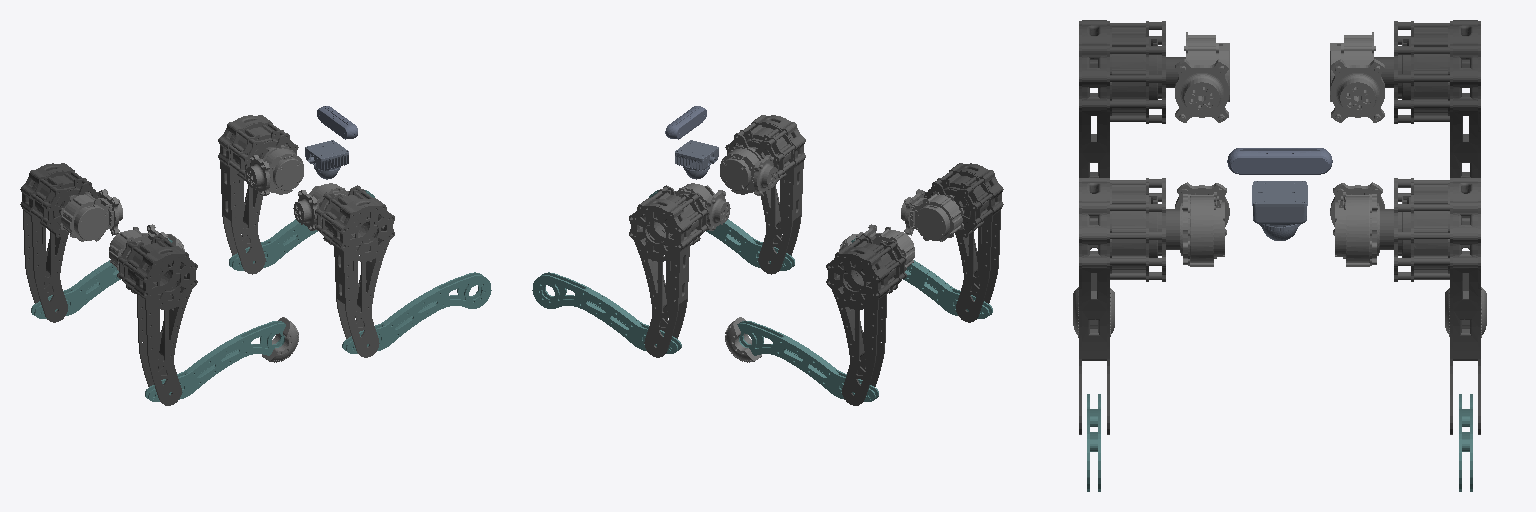
robot.urdf — EVA02_description:
<?xml version="1.0" encoding="UTF-8"?>
<robot name="EVA02_description">

  <!-- body========================================= -->
  <link name="base">
    <inertial>
      <origin xyz="0.011858 0.000475 0.060237" rpy="0 0 0" />
      <mass value="2.03" />
      <inertia
        ixx="0.013522598" ixy="-0.000075348" ixz="-0.001446647"
        iyy="0.031044571" iyz="-0.000032615"
        izz="0.035960924" />
    </inertial>
    <visual>
      <origin xyz="0 0 0" rpy="0 0 0" />
      <geometry>
        <mesh filename="package://EVA02_description/meshes_obj/body.obj" />
      </geometry>
      <material name="">
        <color rgba="0.40 0.40 0.40 1" />
      </material>
    </visual>
    <collision>
      <origin xyz="0 0 0" rpy="0 0 0" />
      <geometry>
        <mesh filename="package://EVA02_description/meshes_obj/body.obj" />
      </geometry>
    </collision>
  </link>

  <!-- camera======================================== -->
  <link name="camera">
    <inertial>
      <origin xyz="0.013017 0 0" rpy="0 0 0" />
      <mass value="0.10" />
      <inertia
        ixx="1.19066e-4"
        ixy="3.2e-8"
        ixz="-1.18e-7"
        iyy="2.8028e-5"
        iyz="5.6e-8"
        izz="1.35348e-4" />
    </inertial>
    <visual>
      <origin xyz="0 0 0" rpy="0 0 0" />
      <geometry>
        <mesh filename="package://EVA02_description/meshes_obj/camera.obj" />
      </geometry>
      <material name="">
        <color rgba="0.45 0.48 0.55 1" />
      </material>
    </visual>
    <collision>
      <origin xyz="0 0 0" rpy="0 0 0" />
      <geometry>
        <mesh filename="package://EVA02_description/meshes_obj/camera.obj" />
      </geometry>
    </collision>
  </link>

  <joint name="camera_joint" type="fixed">
    <origin xyz="0.28698 0.0 0.1895" rpy="0 0 0" />
    <parent link="base" />
    <child link="camera" />
    <axis xyz="0 0 0" />
  </joint>

  <!-- lidar========================================= -->
  <link name="lidar">
    <inertial>
      <origin xyz="-0.000200 0.000006 0.017467" rpy="0 0 0" />
      <mass value="0.265" />
      <inertia
        ixx="0.000123746" ixy="0.000000011" ixz="0.000000020"
        iyy="0.000133349" iyz="0.000000035"
        izz="0.000132274" />
    </inertial>
    <visual>
      <origin xyz="0 0 0" rpy="0 0 0" />
      <geometry>
        <mesh filename="package://EVA02_description/meshes_obj/lidar.obj" />
      </geometry>
      <material name="">
        <color rgba="0.45 0.48 0.53 1" />
      </material>
    </visual>
    <collision>
      <origin xyz="0 0 0" rpy="0 0 0" />
      <geometry>
        <mesh filename="package://EVA02_description/meshes_obj/lidar.obj" />
      </geometry>
    </collision>
  </link>

  <joint name="lidar_joint" type="fixed">
    <origin xyz="0.264 0.0 0.0985" rpy="0 0 0" />
    <parent link="base" />
    <child link="lidar" />
    <axis xyz="0 0 0" />
  </joint>

  <!-- front left leg========================================= -->
  <link name="FL_hip">
    <inertial>
      <origin xyz="-0.013264 -0.000827 0.000642" rpy="0 0 0" />
      <mass value="0.606" />
      <inertia
        ixx="0.000428373" ixy="0.000001930" ixz="-0.000005377"
        iyy="0.000778855" iyz="0.000000361"
        izz="0.000676550" />
    </inertial>
    <visual>
      <origin xyz="0 0 0" rpy="0 0 0" />
      <geometry>
        <mesh filename="package://EVA02_description/meshes_obj/FL_hip.obj" />
      </geometry>
      <material name="">
        <color rgba="0.48 0.48 0.48 1" />
      </material>
    </visual>
    <collision>
      <origin xyz="0 0 0" rpy="0 0 0" />
      <geometry>
        <mesh filename="package://EVA02_description/meshes_obj/FL_hip.obj" />
      </geometry>
    </collision>
  </link>

  <joint name="FL_hip_joint" type="revolute">
    <origin xyz="0.2181 0.09179 0.06815" rpy="0 0 0" />
    <parent link="base" />
    <child link="FL_hip" />
    <axis xyz="1 0 0" />
    <limit lower="-1.0472" upper="1.0472" effort="17.0" velocity="35.0" />
  </joint>

  <link name="FL_thigh">
    <inertial>
      <origin xyz="-0.001468 -0.034831 -0.021338" rpy="0 0 0" />
      <mass value="1.542" />
      <inertia
        ixx="0.007323179" ixy="0.000090584" ixz="-0.000250133"
        iyy="0.006895677" iyz="0.001140375"
        izz="0.002574539" />
    </inertial>
    <visual>
      <origin xyz="0 0 0" rpy="0 0 0" />
      <geometry>
        <mesh filename="package://EVA02_description/meshes_obj/FL_thigh.obj" />
      </geometry>
      <material name="">
        <color rgba="0.40 0.40 0.40 1" />
      </material>
    </visual>
    <collision>
      <origin xyz="0 0 0" rpy="0 0 0" />
      <geometry>
        <mesh filename="package://EVA02_description/meshes_obj/FL_thigh.obj" />
      </geometry>
    </collision>
  </link>

  <joint name="FL_thigh_joint" type="revolute">
    <origin xyz="0 0.1271 0" rpy="0 0 0" />
    <parent link="FL_hip" />
    <child link="FL_thigh" />
    <axis xyz="0 1 0" />
    <limit lower="-1.5708" upper="3.4907" effort="17.0" velocity="35.0" />
  </joint>

  <link name="FL_calf">
    <inertial>
      <origin xyz="0.005417 -0.000207 -0.130693" rpy="0 0 0" />
      <mass value="0.227" />
      <inertia
        ixx="0.001988633" ixy="0.000000287" ixz="0.000050642"
        iyy="0.002045846" iyz="-0.000002846"
        izz="0.000076486" />
    </inertial>
    <visual>
      <origin xyz="0 0 0" rpy="0 0 0" />
      <geometry>
        <mesh filename="package://EVA02_description/meshes_obj/FL_calf.obj" />
      </geometry>
      <material name="">
        <color rgba="0.40 0.55 0.55 1" />
      </material>
    </visual>
    <collision>
      <origin xyz="0 0 0" rpy="0 0 0" />
      <geometry>
        <mesh filename="package://EVA02_description/meshes_obj/FL_calf.obj" />
      </geometry>
    </collision>
  </link>

  <joint name="FL_calf_joint" type="revolute">
    <origin xyz="0 0 -0.240" rpy="0 0 0" />
    <parent link="FL_thigh" />
    <child link="FL_calf" />
    <axis xyz="0 1 0" />
    <limit lower="-2.7227" upper="-0.83776" effort="60.0" velocity="17.0" />
  </joint>

  <link name="FL_foot">
    <inertial>
      <origin xyz="-0.0141710 0.000000008 -0.014459" rpy="0 0 0" />
      <mass value="0.080" />
      <inertia
        ixx="0.000042354" ixy="0.000000000" ixz="0.000016450"
        iyy="0.000053066" iyz="0.000000000"
        izz="0.000043020" />
    </inertial>
    <visual>
      <origin xyz="0 0 0" rpy="0 0 0" />
      <geometry>
        <mesh filename="package://EVA02_description/meshes_obj/FL_foot.obj" />
      </geometry>
      <material name="">
        <color rgba="0.30 0.30 0.30 1" />
      </material>
    </visual>
    <collision>
      <origin xyz="0 0 0" rpy="0 0 0" />
      <geometry>
        <mesh filename="package://EVA02_description/meshes_obj/FL_foot.obj" />
      </geometry>
    </collision>
  </link>

  <joint name="FL_foot_joint" type="fixed" dont_collapse="true">
    <origin xyz="0 0 -0.250" rpy="0 0 0" />
    <parent link="FL_calf" />
    <child link="FL_foot" />
    <axis xyz="0 0 0" />
  </joint>

  <!-- front right leg========================================= -->
  <link name="FR_hip">
    <inertial>
      <origin xyz="-0.013264 0.000827 0.000642" rpy="0 0 0" />
      <mass value="0.606" />
      <inertia
        ixx="0.000428373" ixy="-0.000001930" ixz="-0.000005377"
        iyy="0.000778855" iyz="-0.000000361"
        izz="0.000676550" />
    </inertial>
    <visual>
      <origin xyz="0 0 0" rpy="0 0 0" />
      <geometry>
        <mesh filename="package://EVA02_description/meshes_obj/FL_hip.obj" scale="1 -1 1" />
      </geometry>
      <material name="">
        <color rgba="0.48 0.48 0.48 1" />
      </material>
    </visual>
    <collision>
      <origin xyz="0 0 0" rpy="0 0 0" />
      <geometry>
        <mesh filename="package://EVA02_description/meshes_obj/FL_hip.obj" scale="1 -1 1" />
      </geometry>
    </collision>
  </link>

  <joint name="FR_hip_joint" type="revolute">
    <origin xyz="0.2181 -0.09179 0.06815" rpy="0 0 0" />
    <parent link="base" />
    <child link="FR_hip" />
    <axis xyz="1 0 0" />
    <limit lower="-1.0472" upper="1.0472" effort="17.0" velocity="35.0" />
  </joint>

  <link name="FR_thigh">
    <inertial>
      <origin xyz="-0.001468 0.034831 -0.021338" rpy="0 0 0" />
      <mass value="1.542" />
      <inertia
        ixx="0.007323179" ixy="-0.000090584" ixz="-0.000250133"
        iyy="0.006895677" iyz="-0.001140375"
        izz="0.002574539" />
    </inertial>
    <visual>
      <origin xyz="0 0 0" rpy="0 0 0" />
      <geometry>
        <mesh filename="package://EVA02_description/meshes_obj/FL_thigh.obj" scale="1 -1 1" />
      </geometry>
      <material name="">
        <color rgba="0.40 0.40 0.40 1" />
      </material>
    </visual>
    <collision>
      <origin xyz="0 0 0" rpy="0 0 0" />
      <geometry>
        <mesh filename="package://EVA02_description/meshes_obj/FL_thigh.obj" scale="1 -1 1" />
      </geometry>
    </collision>
  </link>

  <joint name="FR_thigh_joint" type="revolute">
    <origin xyz="0 -0.1271 0" rpy="0 0 0" />
    <parent link="FR_hip" />
    <child link="FR_thigh" />
    <axis xyz="0 1 0" />
    <limit lower="-1.5708" upper="3.4907" effort="17.0" velocity="35.0" />
  </joint>

  <link name="FR_calf">
    <inertial>
      <origin xyz="0.005417 0.000207 -0.130693" rpy="0 0 0" />
      <mass value="0.227" />
      <inertia
        ixx="0.001988633" ixy="-0.000000287" ixz="0.000050642"
        iyy="0.002045846" iyz="0.000002846"
        izz="0.000076486" />
    </inertial>
    <visual>
      <origin xyz="0 0 0" rpy="0 0 0" />
      <geometry>
        <mesh filename="package://EVA02_description/meshes_obj/FL_calf.obj" scale="1 -1 1" />
      </geometry>
      <material name="">
        <color rgba="0.40 0.55 0.55 1" />
      </material>
    </visual>
    <collision>
      <origin xyz="0 0 0" rpy="0 0 0" />
      <geometry>
        <mesh filename="package://EVA02_description/meshes_obj/FL_calf.obj" scale="1 -1 1" />
      </geometry>
    </collision>
  </link>

  <joint name="FR_calf_joint" type="revolute">
    <origin xyz="0 0 -0.240" rpy="0 0 0" />
    <parent link="FR_thigh" />
    <child link="FR_calf" />
    <axis xyz="0 1 0" />
    <limit lower="-2.7227" upper="-0.83776" effort="60.0" velocity="17.0" />
  </joint>

  <link name="FR_foot">
    <inertial>
      <origin xyz="-0.014171 -0.000000008 -0.014459" rpy="0 0 0" />
      <mass value="0.080" />
      <inertia
        ixx="0.000042354" ixy="0.0" ixz="0.000016450"
        iyy="0.000053066" iyz="0.0"
        izz="0.000043020" />
    </inertial>
    <visual>
      <origin xyz="0 0 0" rpy="0 0 0" />
      <geometry>
        <mesh filename="package://EVA02_description/meshes_obj/FL_foot.obj" scale="1 -1 1" />
      </geometry>
      <material name="">
        <color rgba="0.30 0.30 0.30 1" />
      </material>
    </visual>
    <collision>
      <origin xyz="0 0 0" rpy="0 0 0" />
      <geometry>
        <mesh filename="package://EVA02_description/meshes_obj/FL_foot.obj" scale="1 -1 1" />
      </geometry>
    </collision>
  </link>

  <joint name="FR_foot_joint" type="fixed" dont_collapse="true">
    <origin xyz="0 0 -0.250" rpy="0 0 0" />
    <parent link="FR_calf" />
    <child link="FR_foot" />
    <axis xyz="0 0 0" />
  </joint>

  <!-- rear left leg========================================= -->
  <link name="RL_hip">
    <inertial>
      <origin xyz="0.011265 -0.004382 -0.000042" rpy="0 0 0" />
      <mass value="0.815" />
      <inertia
        ixx="0.000503754" ixy="-0.000037811" ixz="0.000001175"
        iyy="0.001002948" iyz="0.000000150"
        izz="0.000864619" />
    </inertial>
    <visual>
      <origin xyz="0 0 0" rpy="0 0 0" />
      <geometry>
        <mesh filename="package://EVA02_description/meshes_obj/RL_hip.obj" />
      </geometry>
      <material name="">
        <color rgba="0.48 0.48 0.48 1" />
      </material>
    </visual>
    <collision>
      <origin xyz="0 0 0" rpy="0 0 0" />
      <geometry>
        <mesh filename="package://EVA02_description/meshes_obj/RL_hip.obj" />
      </geometry>
    </collision>
  </link>

  <joint name="RL_hip_joint" type="revolute">
    <origin xyz="-0.2206 0.09179 0.06815" rpy="0 0 0" />
    <parent link="base" />
    <child link="RL_hip" />
    <axis xyz="1 0 0" />
    <limit lower="-1.0472" upper="1.0472" effort="17.0" velocity="35.0" />
  </joint>

  <link name="RL_thigh">
    <inertial>
      <origin xyz="-0.001573 -0.032493 -0.021284" rpy="0 0 0" />
      <mass value="1.536" />
      <inertia
        ixx="0.007179038" ixy="0.000080461" ixz="-0.000245207"
        iyy="0.006896888" iyz="0.001057598"
        izz="0.002416899" />
    </inertial>
    <visual>
      <origin xyz="0 0 0" rpy="0 0 0" />
      <geometry>
        <mesh filename="package://EVA02_description/meshes_obj/RL_thigh.obj" />
      </geometry>
      <material name="">
        <color rgba="0.35 0.35 0.35 1" />
      </material>
    </visual>
    <collision>
      <origin xyz="0 0 0" rpy="0 0 0" />
      <geometry>
        <mesh filename="package://EVA02_description/meshes_obj/RL_thigh.obj" />
      </geometry>
    </collision>
  </link>

  <joint name="RL_thigh_joint" type="revolute">
    <origin xyz="0 0.1271 0" rpy="0 0 0" />
    <parent link="RL_hip" />
    <child link="RL_thigh" />
    <axis xyz="0 1 0" />
    <limit lower="-1.5708" upper="3.4907" effort="17.0" velocity="35.0" />
  </joint>

  <link name="RL_calf">
    <inertial>
      <origin xyz="0.005417 -0.000207 -0.130693" rpy="0 0 0" />
      <mass value="0.227" />
      <inertia
        ixx="0.001988633" ixy="-0.000000287" ixz="-0.000050642"
        iyy="0.002045846" iyz="-0.000002846"
        izz="0.000076486" />
    </inertial>
    <visual>
      <origin xyz="0 0 0" rpy="0 0 0" />
      <geometry>
        <mesh filename="package://EVA02_description/meshes_obj/RL_calf.obj" />
      </geometry>
      <material name="">
        <color rgba="0.40 0.55 0.55 1" />
      </material>
    </visual>
    <collision>
      <origin xyz="0 0 0" rpy="0 0 0" />
      <geometry>
        <mesh filename="package://EVA02_description/meshes_obj/RL_calf.obj" />
      </geometry>
    </collision>
  </link>

  <joint name="RL_calf_joint" type="revolute">
    <origin xyz="0 0 -0.240" rpy="0 0 0" />
    <parent link="RL_thigh" />
    <child link="RL_calf" />
    <axis xyz="0 1 0" />
    <limit lower="-2.7227" upper="-0.83776" effort="60.0" velocity="17.0" />
  </joint>

  <link name="RL_foot">
    <inertial>
      <origin xyz="-0.014171 0.0000000 -0.014459" rpy="0 0 0" />
      <mass value="0.080" />
      <inertia
        ixx="0.000042354" ixy="0.000000000" ixz="0.000016450"
        iyy="0.000053066" iyz="0.000000000"
        izz="0.000043020" />
    </inertial>
    <visual>
      <origin xyz="0 0 0" rpy="0 0 0" />
      <geometry>
        <mesh filename="package://EVA02_description/meshes_obj/RL_foot.obj" />
      </geometry>
      <material name="">
        <color rgba="0.50 0.50 0.50 1" />
      </material>
    </visual>
    <collision>
      <origin xyz="0 0 0" rpy="0 0 0" />
      <geometry>
        <mesh filename="package://EVA02_description/meshes_obj/RL_foot.obj" />
      </geometry>
    </collision>
  </link>

  <joint name="RL_foot_joint" type="fixed" dont_collapse="true">
    <origin xyz="0 0 -0.250" rpy="0 0 0" />
    <parent link="RL_calf" />
    <child link="RL_foot" />
    <axis xyz="0 0 0" />
  </joint>

  <!-- rear right leg========================================= -->
  <link name="RR_hip">
    <inertial>
      <origin xyz="0.011265 0.004382 -0.000042" rpy="0 0 0" />
      <mass value="0.815" />
      <inertia
        ixx="0.000503754" ixy="0.000037811" ixz="0.000001175"
        iyy="0.001002948" iyz="-0.000000150"
        izz="0.000864619" />
    </inertial>
    <visual>
      <origin xyz="0 0 0" rpy="0 0 0" />
      <geometry>
        <mesh filename="package://EVA02_description/meshes_obj/RL_hip.obj" scale="1 -1 1" />
      </geometry>
      <material name="">
        <color rgba="0.48 0.48 0.48 1" />
      </material>
    </visual>
    <collision>
      <origin xyz="0 0 0" rpy="0 0 0" />
      <geometry>
        <mesh filename="package://EVA02_description/meshes_obj/RL_hip.obj" scale="1 -1 1" />
      </geometry>
    </collision>
  </link>

  <joint name="RR_hip_joint" type="revolute">
    <origin xyz="-0.2206 -0.09179 0.06815" rpy="0 0 0" />
    <parent link="base" />
    <child link="RR_hip" />
    <axis xyz="1 0 0" />
    <limit lower="-1.0472" upper="1.0472" effort="17.0" velocity="35.0" />
  </joint>

  <link name="RR_thigh">
    <inertial>
      <origin xyz="-0.001573 0.032493 -0.021284" rpy="0 0 0" />
      <mass value="1.536" />
      <inertia
        ixx="0.007179038" ixy="-0.000080461" ixz="-0.000245207"
        iyy="0.006896888" iyz="-0.001057598"
        izz="0.002416899" />
    </inertial>
    <visual>
      <origin xyz="0 0 0" rpy="0 0 0" />
      <geometry>
        <mesh filename="package://EVA02_description/meshes_obj/RL_thigh.obj" scale="1 -1 1" />
      </geometry>
      <material name="">
        <color rgba="0.35 0.35 0.35 1" />
      </material>
    </visual>
    <collision>
      <origin xyz="0 0 0" rpy="0 0 0" />
      <geometry>
        <mesh filename="package://EVA02_description/meshes_obj/RL_thigh.obj" scale="1 -1 1" />
      </geometry>
    </collision>
  </link>

  <joint name="RR_thigh_joint" type="revolute">
    <origin xyz="0 -0.1271 0" rpy="0 0 0" />
    <parent link="RR_hip" />
    <child link="RR_thigh" />
    <axis xyz="0 1 0" />
    <limit lower="-1.5708" upper="3.4907" effort="17.0" velocity="35.0" />
  </joint>

  <link name="RR_calf">
    <inertial>
      <origin xyz="0.005417 0.000207 -0.130693" rpy="0 0 0" />
      <mass value="0.227" />
      <inertia
        ixx="0.001988633" ixy="0.000000287" ixz="-0.000050642"
        iyy="0.002045846" iyz="0.000002846"
        izz="0.000076486" />
    </inertial>
    <visual>
      <origin xyz="0 0 0" rpy="0 0 0" />
      <geometry>
        <mesh filename="package://EVA02_description/meshes_obj/RL_calf.obj" scale="1 -1 1" />
      </geometry>
      <material name="">
        <color rgba="0.40 0.55 0.55 1" />
      </material>
    </visual>
    <collision>
      <origin xyz="0 0 0" rpy="0 0 0" />
      <geometry>
        <mesh filename="package://EVA02_description/meshes_obj/RL_calf.obj" scale="1 -1 1" />
      </geometry>
    </collision>
  </link>

  <joint name="RR_calf_joint" type="revolute">
    <!-- Z 轴无变化，Y 为 0，保持不变 -->
    <origin xyz="0 0 -0.240" rpy="0 0 0" />
    <parent link="RR_thigh" />
    <child link="RR_calf" />
    <axis xyz="0 1 0" />
    <limit lower="-2.7227" upper="-0.83776" effort="60.0" velocity="17.0" />
  </joint>

  <link name="RR_foot">
    <inertial>
      <origin xyz="-0.014171 -0.0000000 -0.014459" rpy="0 0 0" />
      <mass value="0.080" />
      <inertia
        ixx="0.000042354" ixy="0.0" ixz="0.000016450"
        iyy="0.000053066" iyz="0.0"
        izz="0.000043020" />
    </inertial>
    <visual>
      <origin xyz="0 0 0" rpy="0 0 0" />
      <geometry>
        <mesh filename="package://EVA02_description/meshes_obj/RL_foot.obj" scale="1 -1 1" />
      </geometry>
      <material name="">
        <color rgba="0.50 0.50 0.50 1" />
      </material>
    </visual>
    <collision>
      <origin xyz="0 0 0" rpy="0 0 0" />
      <geometry>
        <mesh filename="package://EVA02_description/meshes_obj/RL_foot.obj" scale="1 -1 1" />
      </geometry>
    </collision>
  </link>

  <joint name="RR_foot_joint" type="fixed" dont_collapse="true">
    <origin xyz="0 0 -0.250" rpy="0 0 0" />
    <parent link="RR_calf" />
    <child link="RR_foot" />
    <axis xyz="0 0 0" />
  </joint>

</robot>

--- Render facts (derived) ---
3 views of the same robot in one strip: view 1: azimuth 30°, elevation 25°; view 2: azimuth 150°, elevation 25°; view 3: azimuth 270°, elevation 25° (orthographic).
Robot: EVA02_description — 19 links, 18 joints (12 revolute, 6 fixed); root link base; default pose: all joints at 0 but 4 set to mid-range because 0 is outside their limits (FL_calf_joint = -1.78, FR_calf_joint = -1.78, RL_calf_joint = -1.78, RR_calf_joint = -1.78).
Links seen in each view (by area): view 1: FR_thigh, RR_thigh, RL_thigh, FL_thigh, FR_calf, RR_calf, RL_hip, FL_hip, RL_calf, FL_calf, lidar, FR_hip (+3 smaller); view 2: FL_thigh, RL_thigh, RR_thigh, FR_thigh, FL_calf, RL_calf, RR_hip, FR_hip, RR_calf, FR_calf, lidar, FL_hip (+3 smaller); view 3: FL_thigh, FR_thigh, RL_thigh, RR_thigh, RL_hip, RR_hip, FL_hip, FR_hip, lidar, camera, FL_calf, FR_calf.
Link boxes in pixels (box(x1,y1,x2,y2)): FR_thigh: box(315, 185, 394, 357); RR_thigh: box(117, 234, 197, 405); RL_thigh: box(20, 163, 99, 322); FL_thigh: box(218, 115, 298, 274); FR_calf: box(342, 272, 491, 353); RR_calf: box(145, 321, 285, 401); RL_hip: box(60, 189, 122, 241); FL_hip: box(246, 145, 303, 195); RL_calf: box(31, 238, 172, 318); FL_calf: box(229, 190, 374, 270); lidar: box(305, 140, 348, 179); FR_hip: box(293, 183, 348, 230); FL_thigh: box(629, 185, 708, 357); RL_thigh: box(826, 234, 906, 405); RR_thigh: box(924, 163, 1003, 322); FR_thigh: box(725, 115, 805, 274); FL_calf: box(532, 272, 681, 353); RL_calf: box(737, 321, 878, 401); RR_hip: box(901, 189, 963, 241); FR_hip: box(720, 145, 777, 195); RR_calf: box(851, 238, 992, 318); FR_calf: box(649, 190, 794, 270); lidar: box(675, 140, 718, 179); FL_hip: box(675, 183, 730, 230); FL_thigh: box(1380, 178, 1480, 434); FR_thigh: box(1079, 178, 1179, 434); RL_thigh: box(1374, 20, 1480, 177); RR_thigh: box(1079, 20, 1185, 177); RL_hip: box(1330, 32, 1384, 122); RR_hip: box(1175, 32, 1229, 122); FL_hip: box(1330, 182, 1384, 266); FR_hip: box(1175, 182, 1229, 266); lidar: box(1252, 181, 1307, 240); camera: box(1227, 148, 1332, 174); FL_calf: box(1459, 394, 1472, 491); FR_calf: box(1087, 394, 1100, 491).
Bounding box of the posed robot: 0.7779 × 0.4878 × 0.4005 m (x, y, z).
Meshes: 11 distinct files referenced, 16 mesh visuals loaded (9 OBJ); not drawn: 3 (reference not matched to a file when rendering).
